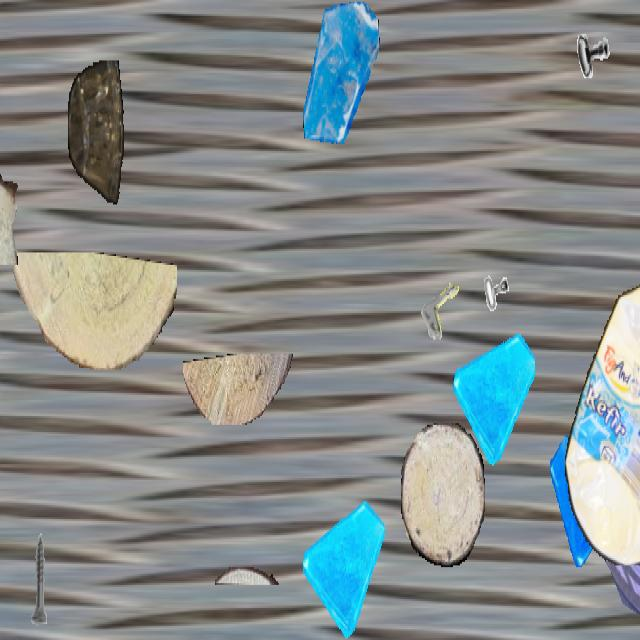glass: (303, 492, 385, 638), (453, 320, 535, 466), (301, 2, 381, 144), (550, 432, 626, 567), (597, 489, 640, 638)
metal: (417, 251, 477, 357), (12, 530, 66, 626), (471, 268, 521, 358), (573, 16, 613, 87)
plastic: (564, 257, 640, 564), (68, 60, 124, 206)
wood: (6, 252, 176, 370), (401, 423, 485, 565), (183, 354, 295, 425), (0, 174, 18, 263), (215, 567, 279, 585)
